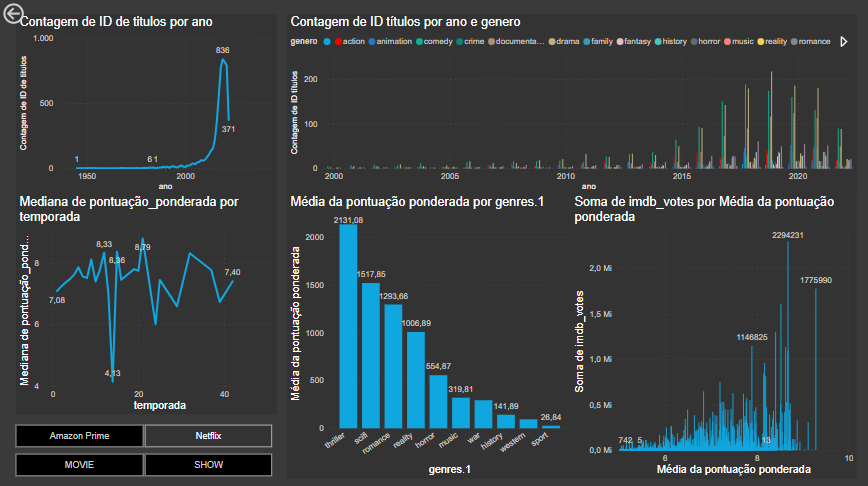

This screenshot's page, from the dashboard's own definition file:
{"tool":"powerbi","page":{"name":"Página 2","canvas":[1280,720],"ordinal":1},"visuals":[{"type":"lineChart","fields":{"Category":["amazon_netflix_limpo.release_year"],"Y":["CountNonNull(amazon_netflix_limpo.ID)"]},"box":[24,20,384,266],"z":0},{"type":"actionButton","box":[0,0,100,40],"z":1000},{"type":"clusteredColumnChart","fields":{"Category":["amazon_netflix_limpo.release_year"],"Y":["CountNonNull(amazon_netflix_limpo.ID)"],"Series":["amazon_netflix_limpo.genres.1"]},"box":[422,20,838,266],"z":2000},{"type":"lineChart","fields":{"Category":["amazon_netflix_limpo.seasons"],"Y":["Median(amazon_netflix_limpo.pontuação_ponderada)"]},"box":[24,286,384,324],"z":3000},{"type":"columnChart","fields":{"Category":["amazon_netflix_limpo.genres.1"],"Y":["Sum(amazon_netflix_limpo.pontuação_ponderada)"]},"box":[421.4,285.7,420,418.6],"z":4000},{"type":"slicer","fields":{"Values":["amazon_netflix_limpo.streaming"]},"box":[0,620,421.4,41.4],"z":5000},{"type":"slicer","fields":{"Values":["amazon_netflix_limpo.type"]},"box":[0,662.9,421.4,41.4],"z":6000},{"type":"columnChart","fields":{"Y":["Sum(amazon_netflix_limpo.imdb_votes)"],"Category":["amazon_netflix_limpo.pontuação_ponderada"]},"box":[840,285.7,420,418.6],"z":7000}]}

Visuals, with their boxes in screenshot pixels (x1, y1, x2, y2), scaled from the page's 1280x720 canvas onto the 868x486 screenshot:
lineChart - amazon_netflix_limpo.release_year x CountNonNull(amazon_netflix_limpo.ID): 16,14,277,193
actionButton: 0,0,68,27
clusteredColumnChart - amazon_netflix_limpo.release_year x CountNonNull(amazon_netflix_limpo.ID): 286,14,854,193
lineChart - amazon_netflix_limpo.seasons x Median(amazon_netflix_limpo.pontuação_ponderada): 16,193,277,412
columnChart - amazon_netflix_limpo.genres.1 x Sum(amazon_netflix_limpo.pontuação_ponderada): 286,193,571,475
slicer - amazon_netflix_limpo.streaming: 0,418,286,446
slicer - amazon_netflix_limpo.type: 0,447,286,475
columnChart - Sum(amazon_netflix_limpo.imdb_votes) x amazon_netflix_limpo.pontuação_ponderada: 570,193,854,475
